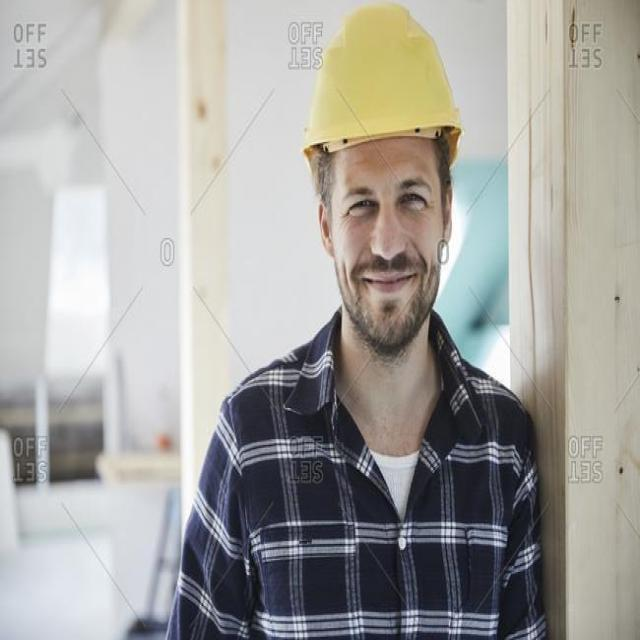hat: (300, 0, 465, 155)
